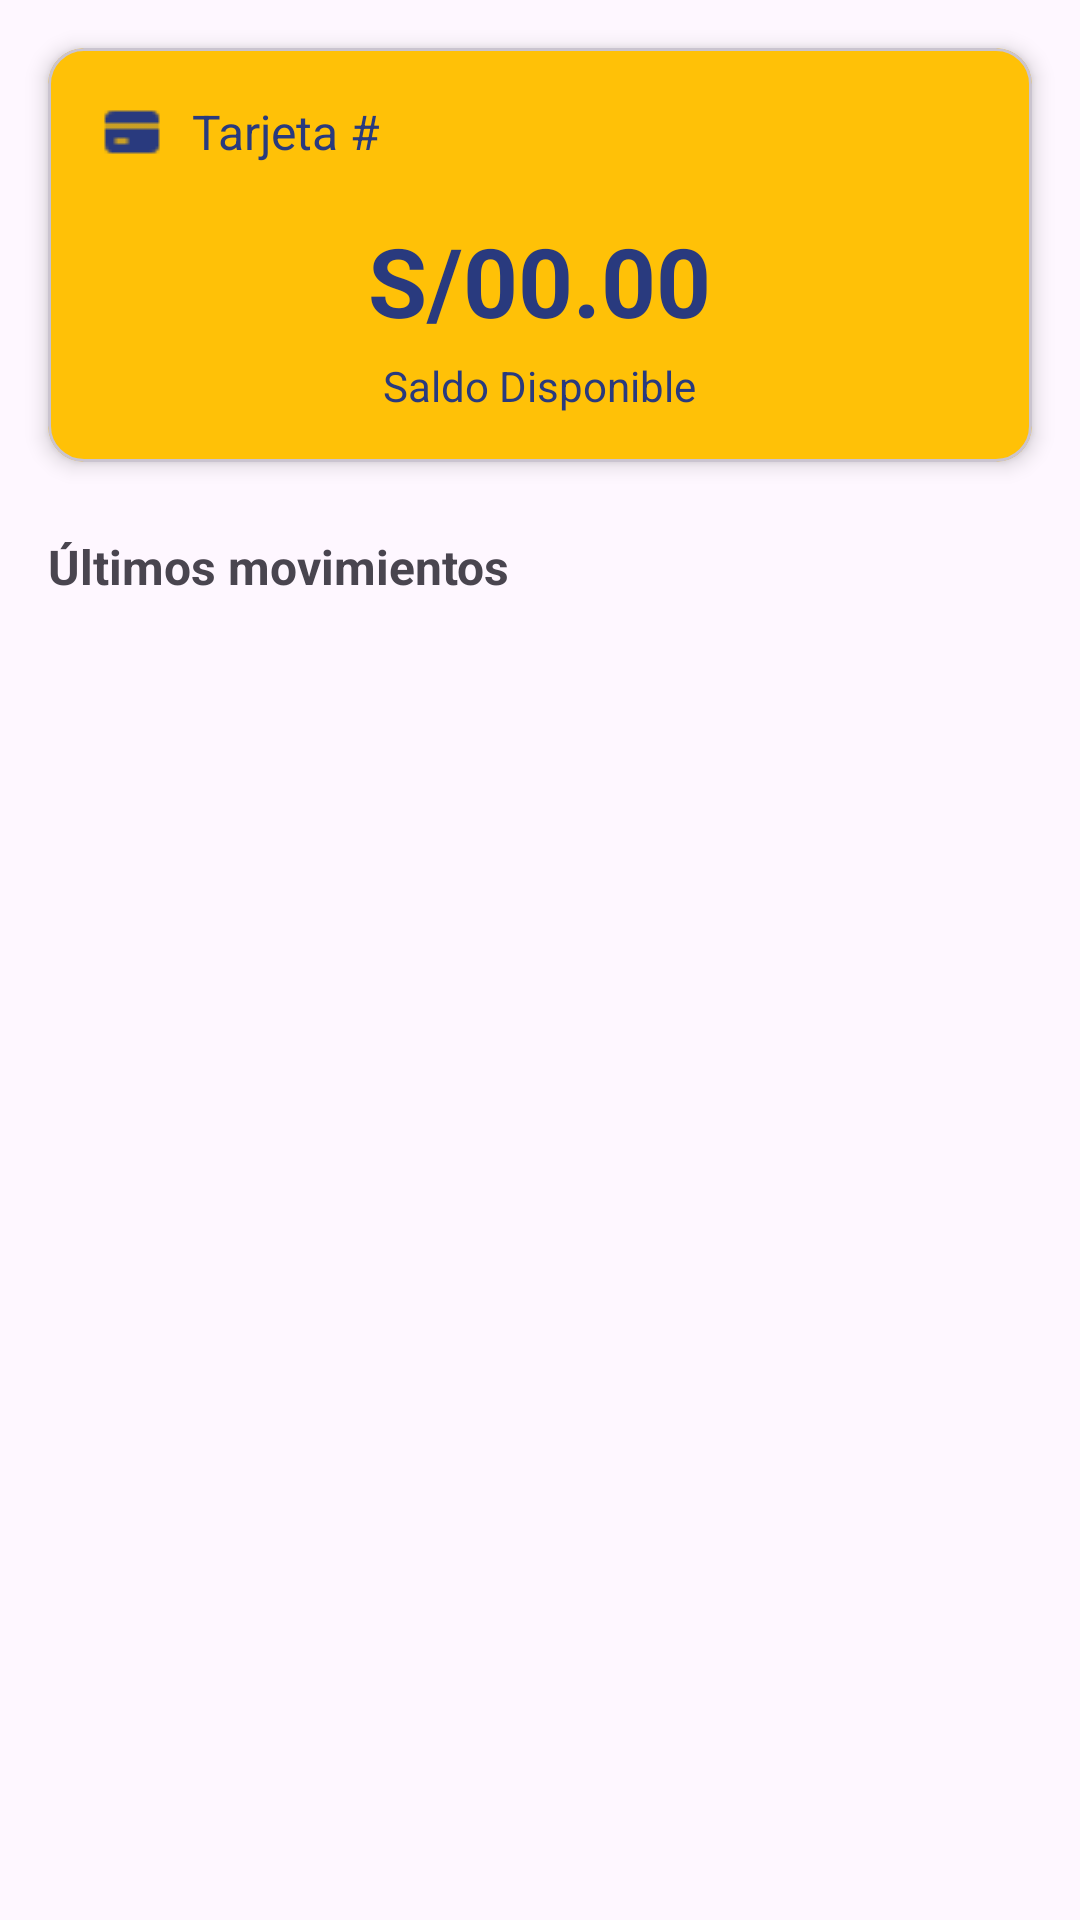

Icon bounding boxes for this 1080w x 1920h phone screenshot, format rect(x1, y1, x2, y2):
credit card: rect(104, 110, 160, 154)
